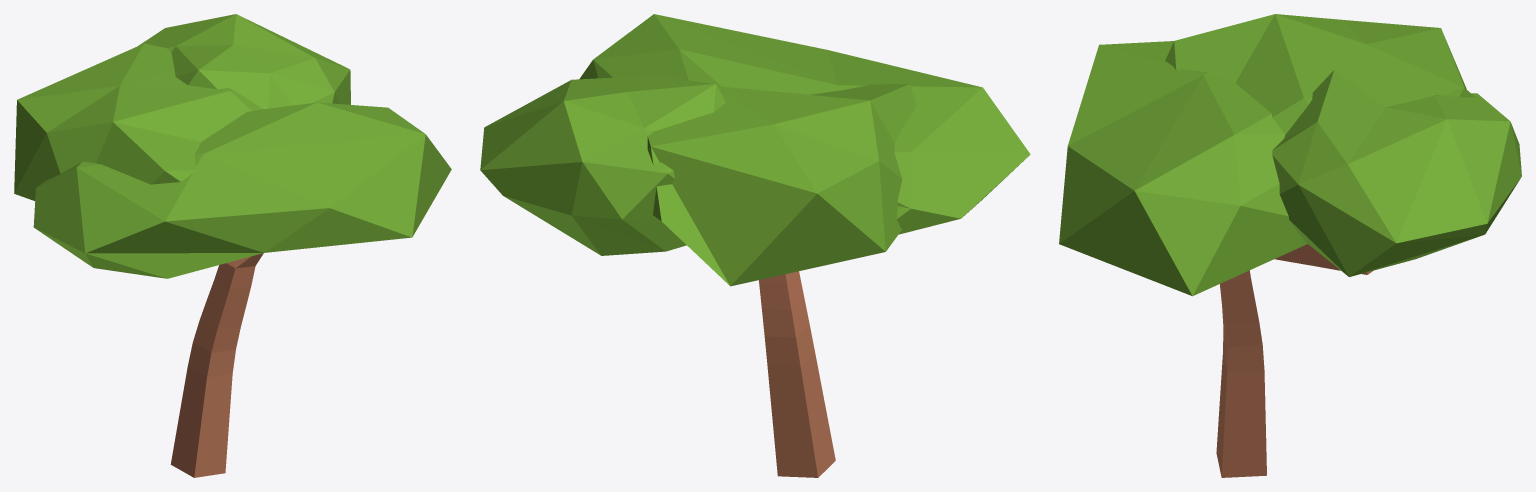
File: oak 1.gltf
3 renders of one model, left to right at view 1: azimuth 30°, elevation 25°; view 2: azimuth 150°, elevation 25°; view 3: azimuth 270°, elevation 25°, orthographic. The views are drawn at different scales.
Visible parts, largest first — view 1: Icosphere.011, Icosphere.013, Icosphere.012, tree; view 2: Icosphere.013, Icosphere.011, Icosphere.012, tree; view 3: Icosphere.011, Icosphere.012, Icosphere.013, tree.
Boxes of the visible parts, x1,y1,x2,y2 form: Icosphere.011: (33, 102, 451, 278); Icosphere.013: (14, 43, 262, 200); Icosphere.012: (138, 14, 350, 109); tree: (170, 253, 263, 477); Icosphere.013: (647, 84, 916, 286); Icosphere.011: (579, 14, 1030, 234); Icosphere.012: (480, 75, 725, 255); tree: (759, 271, 835, 477); Icosphere.011: (1059, 41, 1307, 296); Icosphere.012: (1272, 69, 1521, 276); Icosphere.013: (1165, 14, 1475, 134); tree: (1216, 244, 1373, 477).
Bounding box in the file's own units: 9.89 × 8.82 × 8.8.
1 material, 1 textured.
